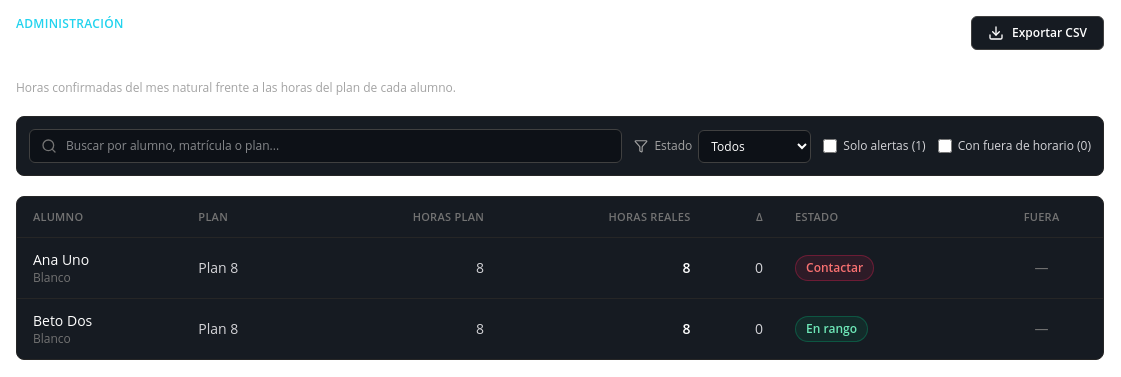
Test: F7-03 · balance de horas (UI) › filtra por "Solo alertas"
Check: the link "Beto Dos" is shown, box left=33, top=311, right=92, bottom=330
Click the checkbox labelled "Solo alertas (1)": {"x": 830, "y": 146} left=823, top=139, right=837, bottom=153
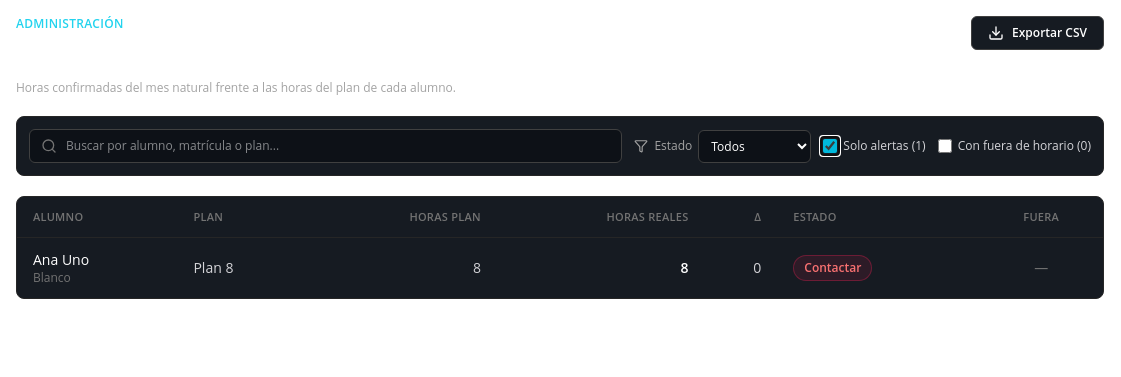
Check: the link "Ana Uno" is shown, box left=33, top=250, right=89, bottom=269
Check: the link "Beto Dos" is gone
